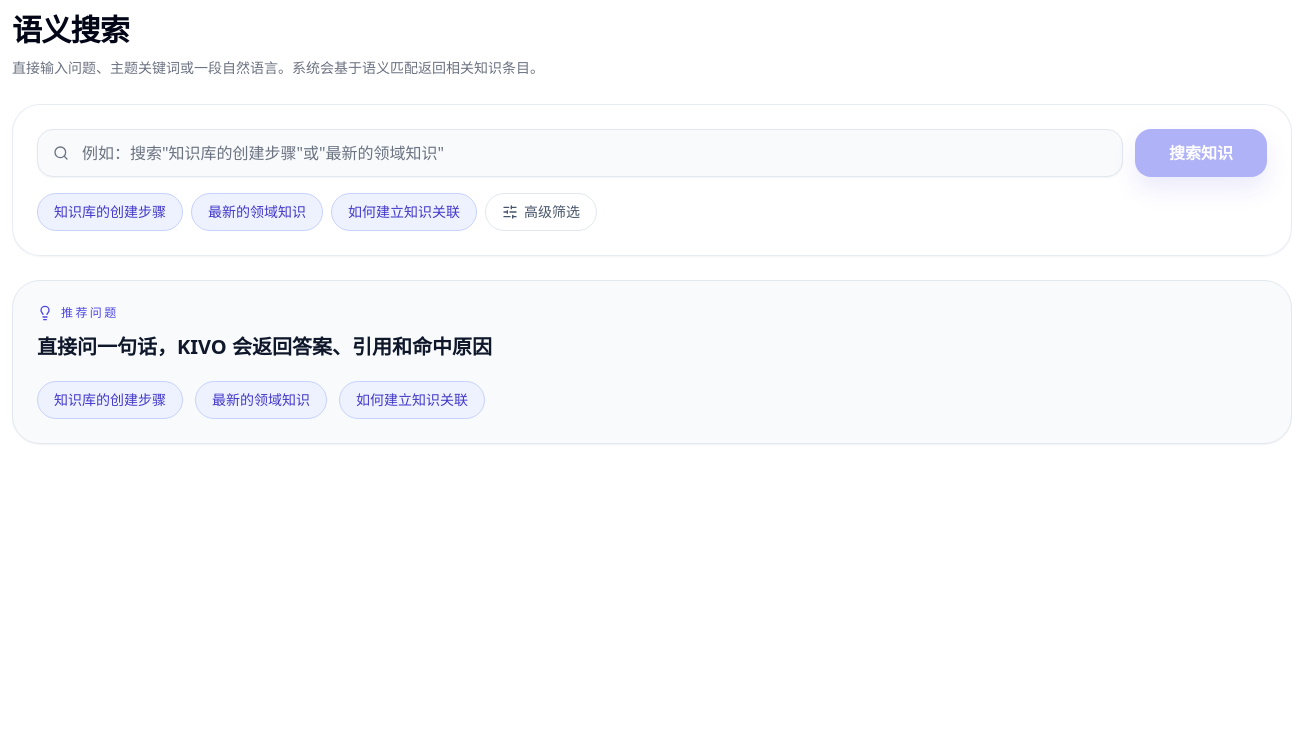
Test case: SearchPage › submits search and shows results
The image size is (1292, 732).
Type "架构" into the field named "输入搜索问题" at (580, 153), box [37,129,1123,177]
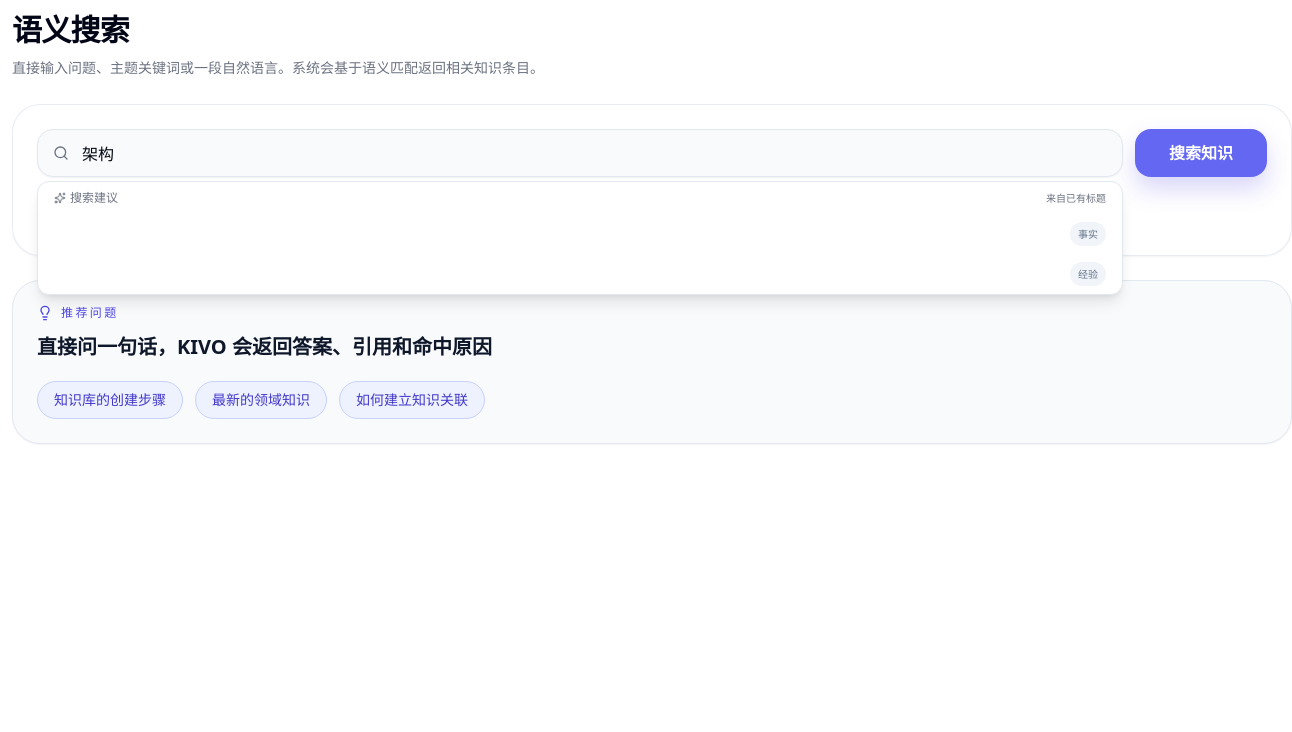
Submit the form named "输入搜索问题", box [37,129,1267,231]
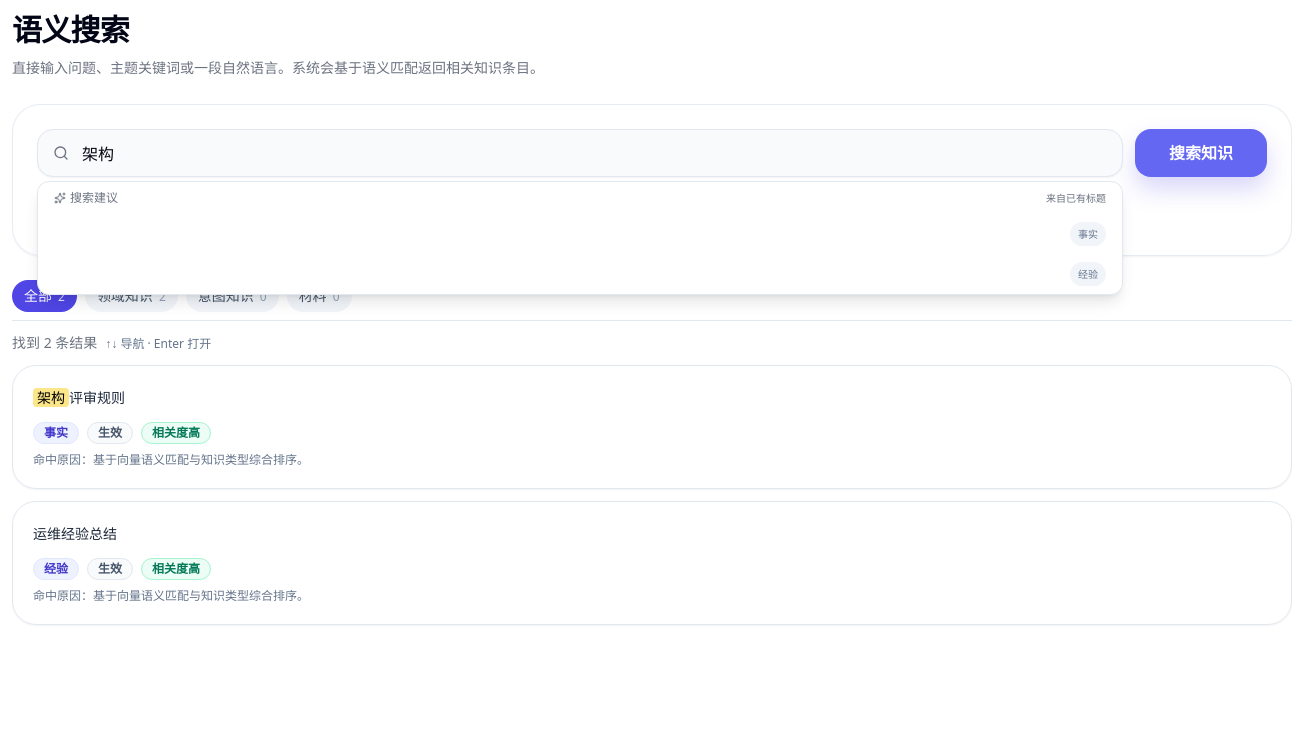
Now the text "找到 2 条结果" is shown, box [12,333,211,352]
